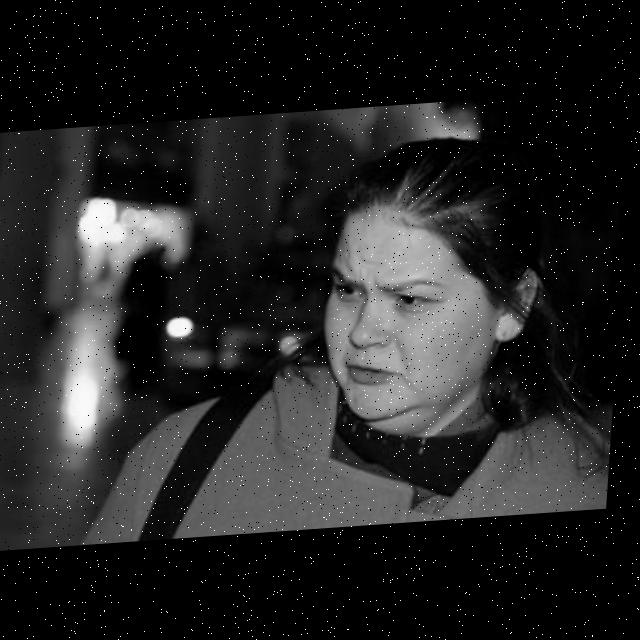face: (319, 202, 491, 440)
